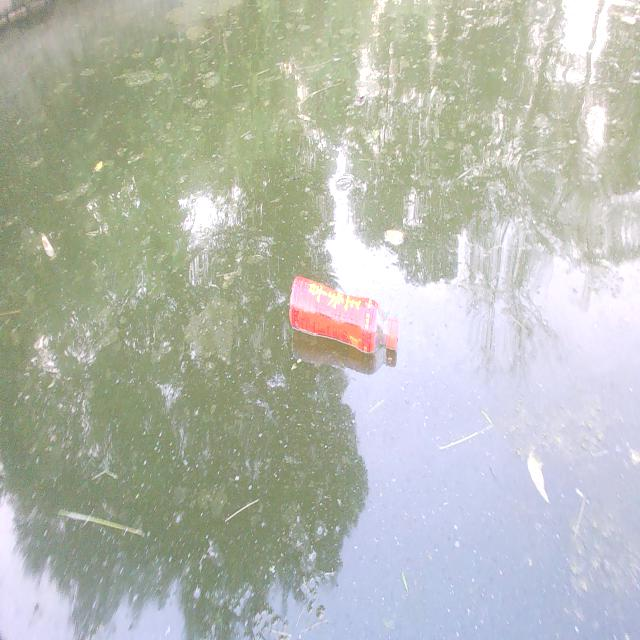bottle: (282, 266, 413, 365)
